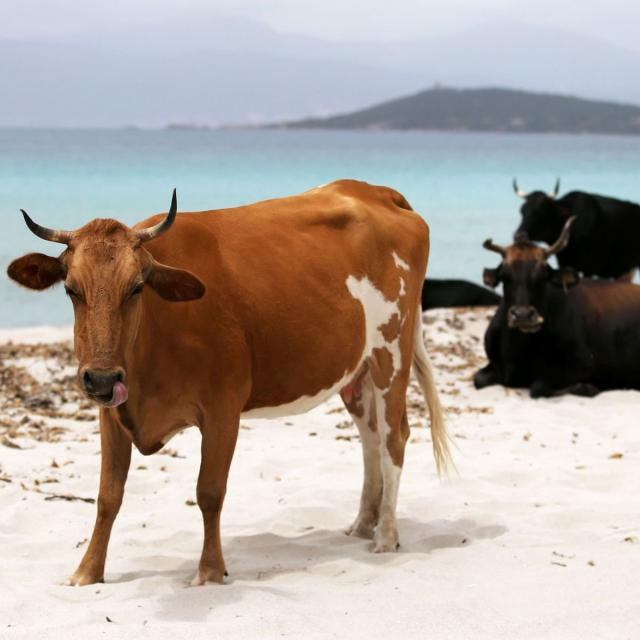cow: (21, 238, 228, 409), (485, 230, 608, 376)
